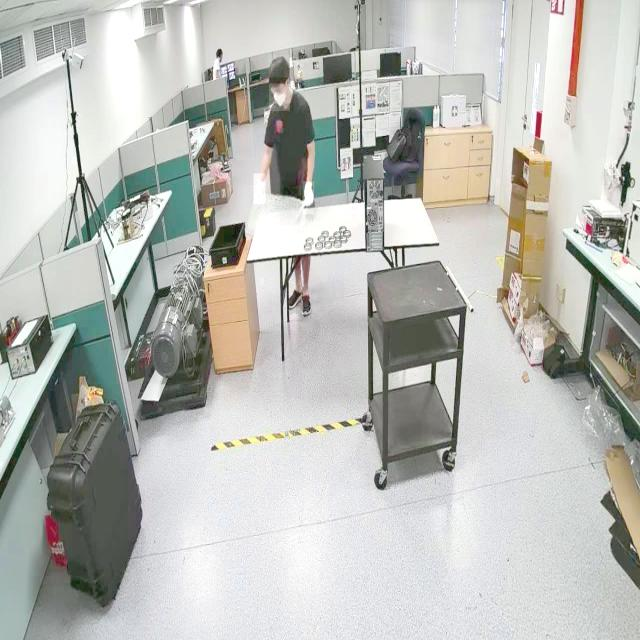face_mask: (269, 84, 290, 111)
hand_glove: (253, 174, 266, 204), (302, 182, 314, 214)
head_nohelmet: (268, 55, 291, 78), (216, 47, 224, 53)
person: (248, 59, 322, 338)
shoes: (300, 289, 314, 323), (286, 284, 304, 310)
